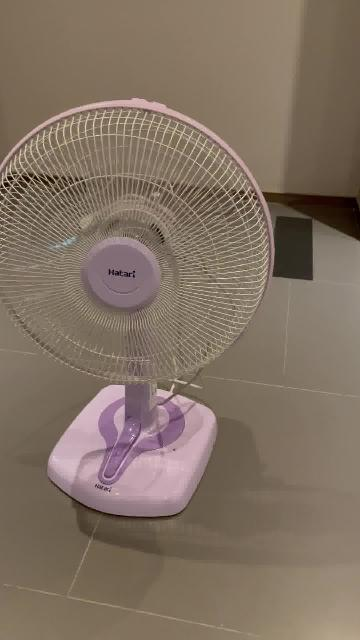Fan: (0, 99, 274, 520)
